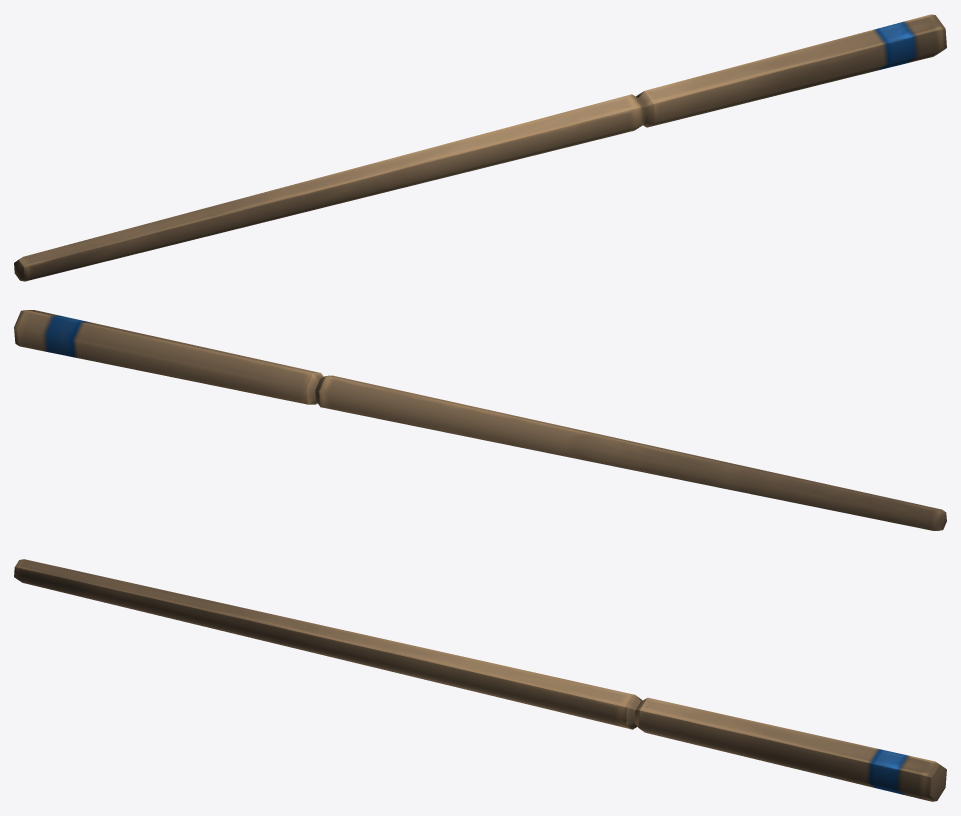
The model's file is Chopstick_01_Free.FBX.
The picture shows the model from 3 angles, top to bottom: view 1: azimuth 30°, elevation 25°; view 2: azimuth 150°, elevation 25°; view 3: azimuth 330°, elevation 25°; orthographic projection. The views are drawn at different scales.
Parts seen in each view (by area): view 1: Chopstick01_Free; view 2: Chopstick01_Free; view 3: Chopstick01_Free.
Boxes of the visible parts, <box> form: Chopstick01_Free: <box>14,14,946,281</box>; Chopstick01_Free: <box>14,310,946,530</box>; Chopstick01_Free: <box>14,559,946,801</box>.
Size of the model in its own units: 109 by 4.58 by 7.73.
